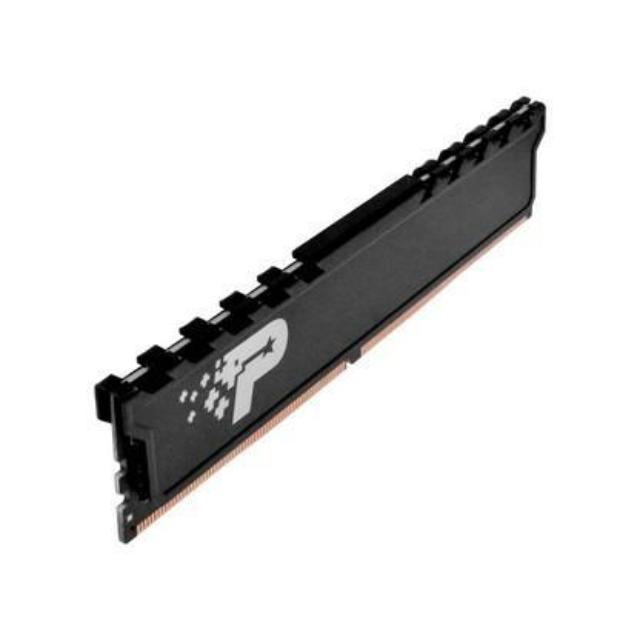RAM: (93, 86, 555, 549)
